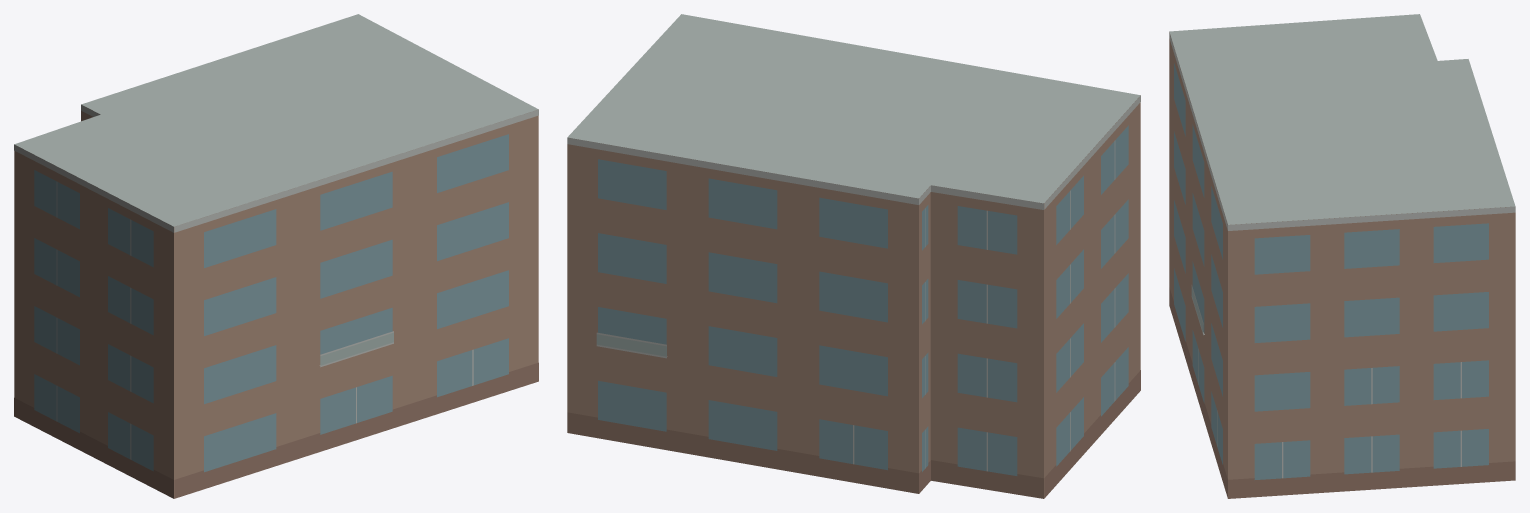
The model's file is survey-upis-32464702.glb.
3 views of the same model, side by side, from view 1: azimuth 30°, elevation 25°; view 2: azimuth 150°, elevation 25°; view 3: azimuth 270°, elevation 25° (orthographic). The views are drawn at different scales.
Visible parts, largest first — view 1: survey-upis-32464702.tmp; view 2: survey-upis-32464702.tmp; view 3: survey-upis-32464702.tmp.
Boxes of the visible parts, x1,y1,x2,y2 form: survey-upis-32464702.tmp: (14, 14, 538, 498); survey-upis-32464702.tmp: (567, 14, 1140, 498); survey-upis-32464702.tmp: (1169, 14, 1515, 498).
Size of the model in its own units: 17.84 by 10.8 by 12.38.
